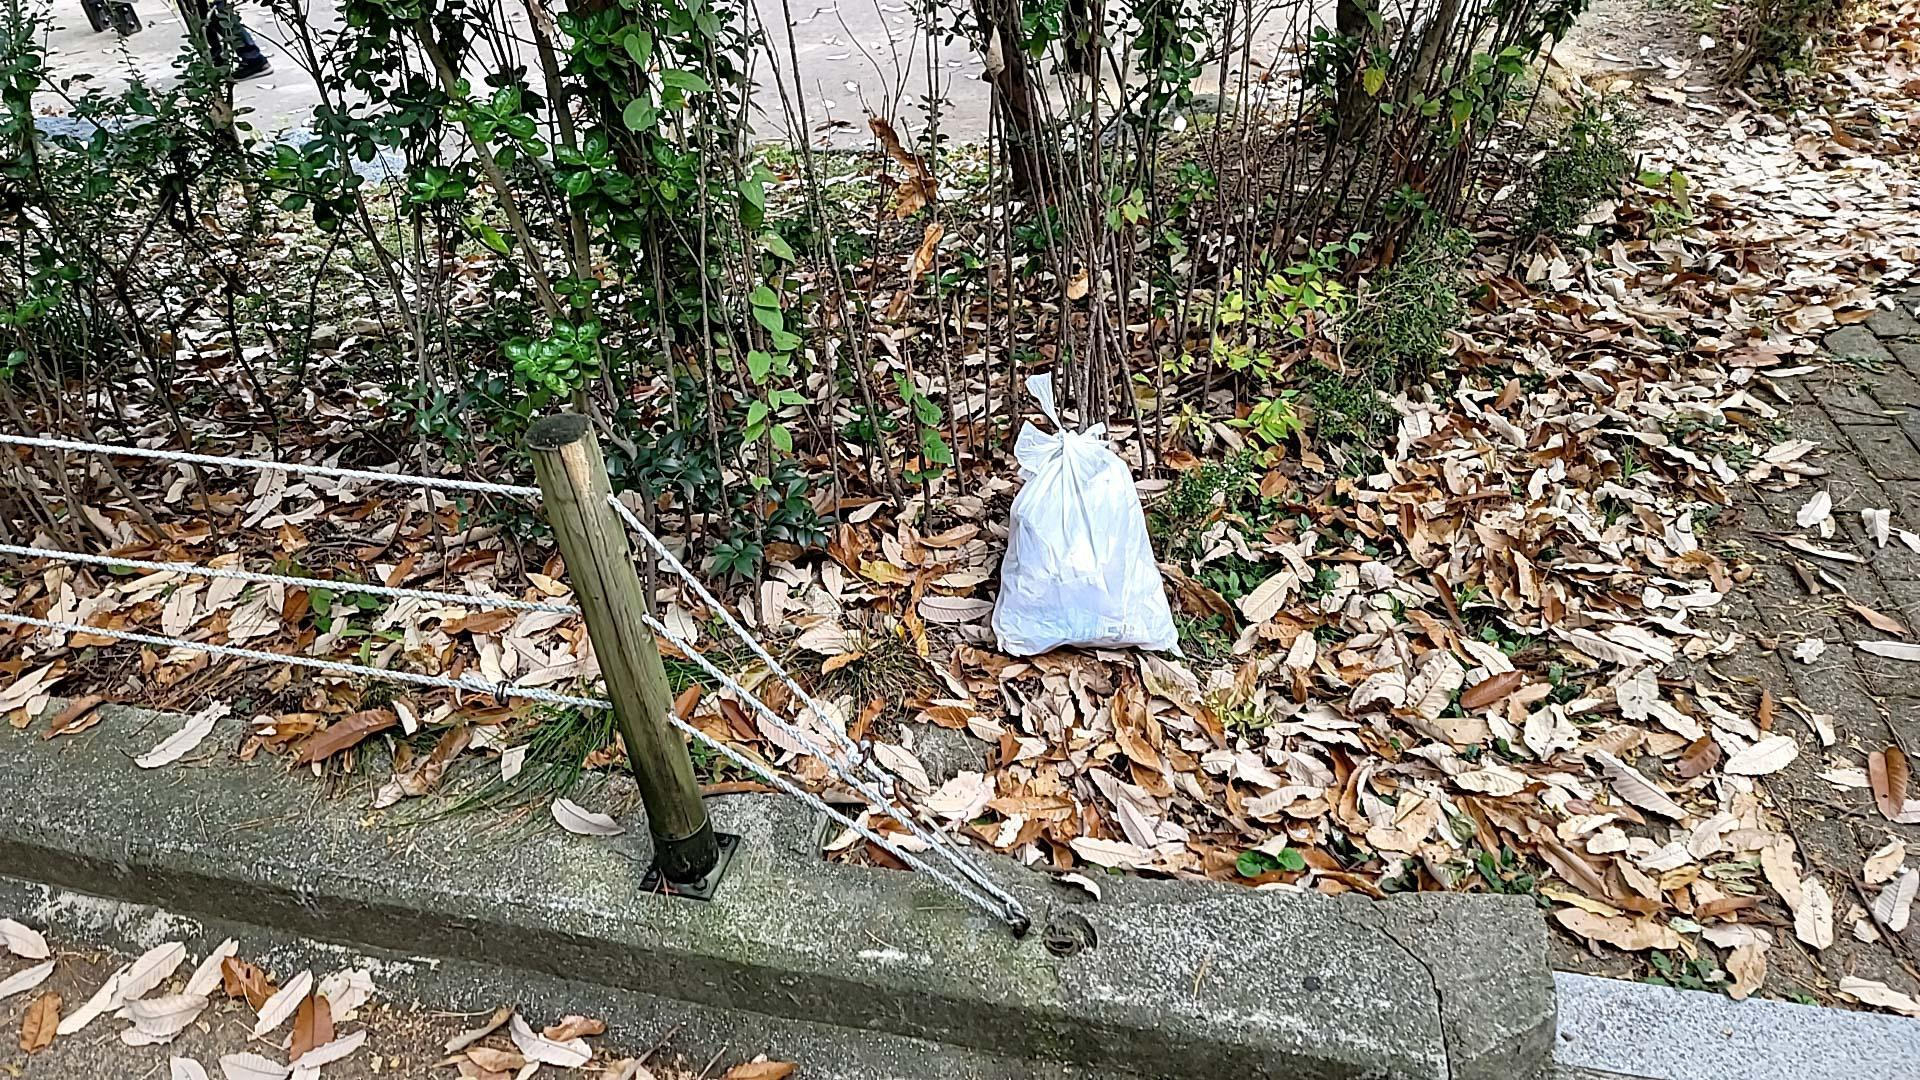white_bag: (977, 365, 1207, 675)
